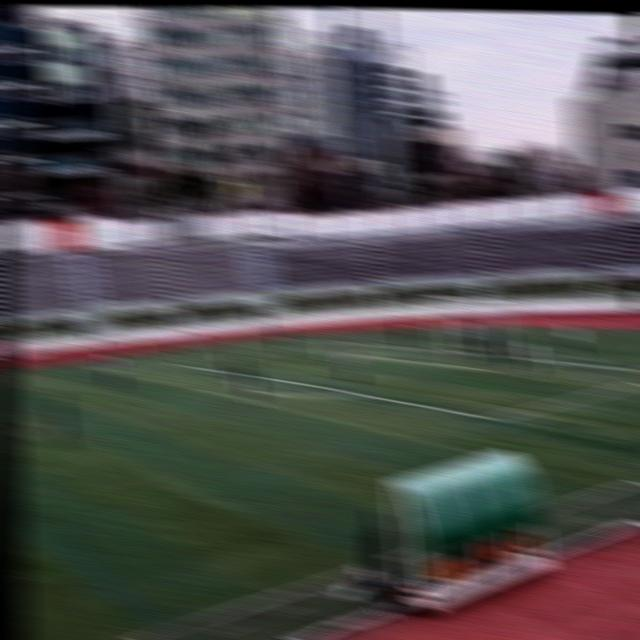bigarea_bottom_inner: (477, 405, 502, 435)
bigarea_top_inner: (173, 358, 195, 373)
bigarea_top_outter: (320, 336, 342, 348)
bottom_arc_area_intersection: (341, 389, 367, 402)
corner: (255, 332, 274, 341)
smallarea_bottom_inner: (492, 363, 509, 377)
smallarea_bottom_outter: (536, 354, 559, 366)
smallarea_top_outter: (391, 342, 409, 353)
